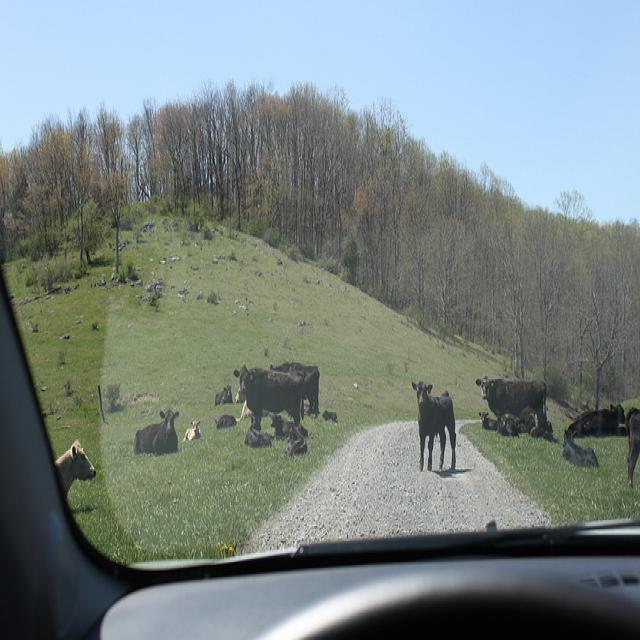cow: (179, 361, 635, 454), (231, 363, 307, 433), (412, 376, 461, 469), (479, 372, 544, 432), (269, 357, 318, 414), (54, 436, 97, 495), (565, 399, 626, 438), (130, 406, 179, 454), (560, 427, 599, 466), (625, 414, 639, 486), (242, 414, 272, 447), (268, 411, 294, 438), (494, 414, 518, 435), (477, 409, 495, 429)
